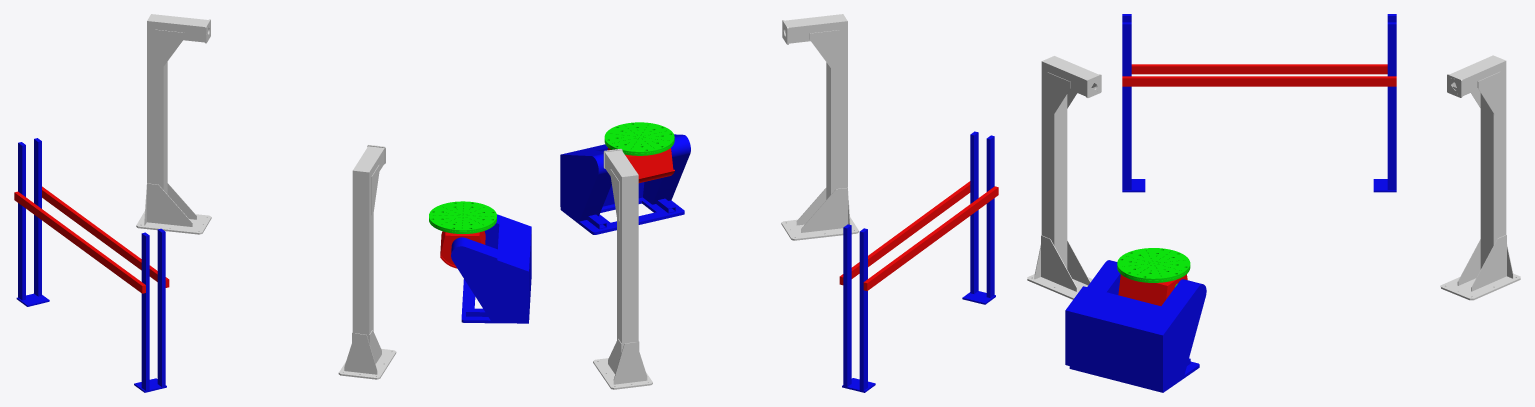
The model's file is Accessories.fbx.
3 renders of one model, left to right at view 1: azimuth 30°, elevation 25°; view 2: azimuth 150°, elevation 25°; view 3: azimuth 270°, elevation 25°, orthographic. The views are drawn at different scales.
Parts seen in each view (by area): view 1: Support.005, Support.001, Support.004, Support.002; view 2: Support.005, Support.001, Support.002, Support.004; view 3: Support.005, Support.001, Support.004, Support.002.
Part boxes in pixels (x1,y1,x2,y2): Support.005: (429,201,531,323); Support.001: (14,138,169,392); Support.004: (136,14,211,234); Support.002: (338,145,396,379); Support.005: (560,122,690,234); Support.001: (839,131,998,392); Support.002: (781,14,858,240); Support.004: (593,149,652,389); Support.005: (1065,248,1206,392); Support.001: (1122,14,1396,192); Support.004: (1440,55,1520,300); Support.002: (1027,56,1101,299).
Size of the model in its own units: 552 by 263 by 540.
